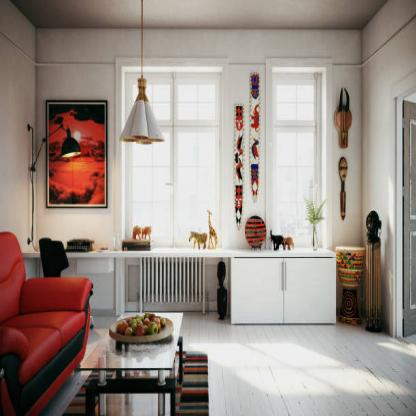Frame: (46, 100, 107, 212)
Window: (124, 66, 220, 244), (269, 69, 322, 245)
